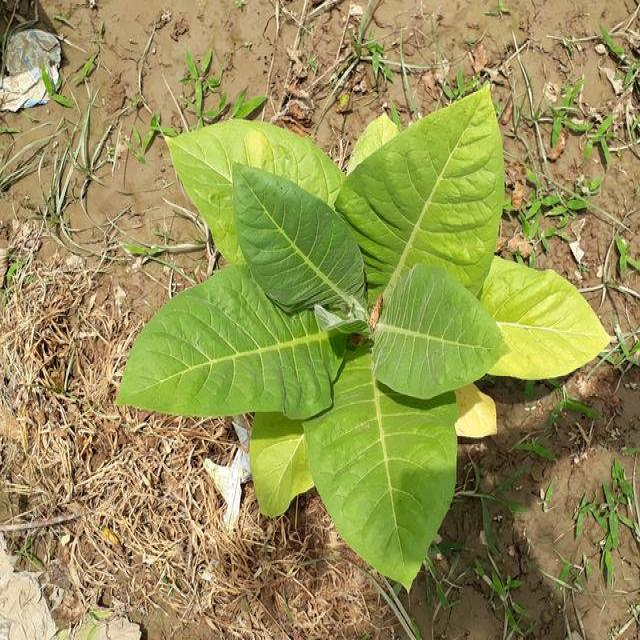crop: (132, 103, 604, 571)
